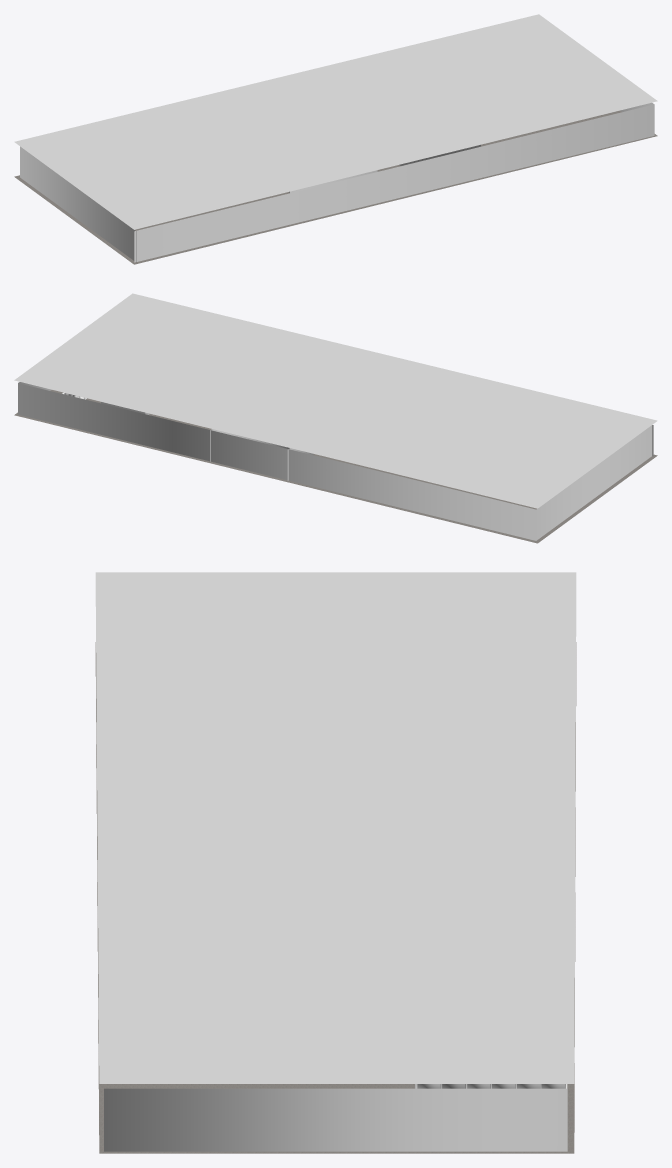
Rendered from testwalls.glb.
The picture shows the model from 3 angles, top to bottom: view 1: azimuth 30°, elevation 25°; view 2: azimuth 150°, elevation 25°; view 3: azimuth 270°, elevation 25°; orthographic projection. The views are drawn at different scales.
Visible parts, largest first — view 1: ceiling, Wall, floor; view 2: ceiling, Wall, floor; view 3: ceiling, Wall, floor.
Part boxes in pixels (left/top/right/bottom): ceiling: left=14, top=14, right=657, bottom=229; Wall: left=20, top=102, right=654, bottom=262; floor: left=14, top=110, right=657, bottom=264; ceiling: left=14, top=293, right=657, bottom=508; Wall: left=18, top=382, right=653, bottom=540; floor: left=14, top=390, right=657, bottom=543; ceiling: left=95, top=572, right=576, bottom=1083; Wall: left=104, top=1088, right=567, bottom=1151; floor: left=95, top=642, right=576, bottom=1153.
Bounding box in the file's own units: 62.97 × 4.06 × 25.
Materials: 17 (1 with a texture image).
